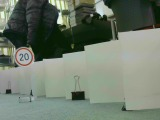speed_20: (12, 46, 35, 68)
